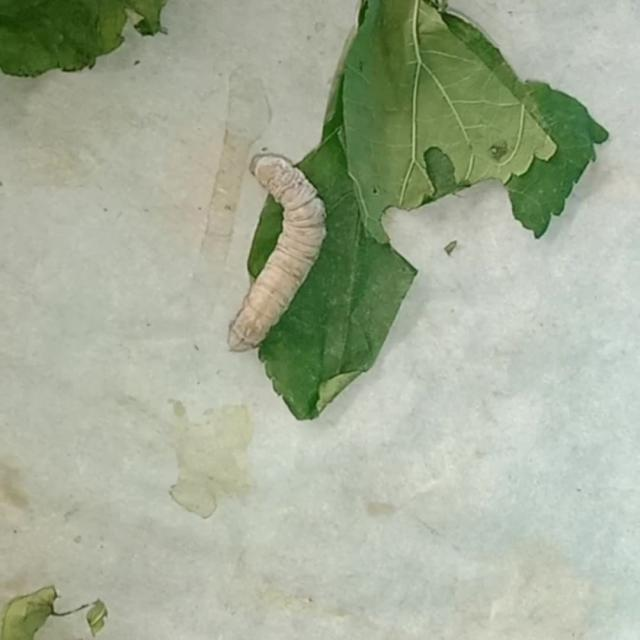Grasserie: (218, 145, 344, 365)
